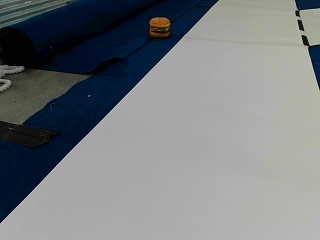burger: (148, 15, 170, 38)
